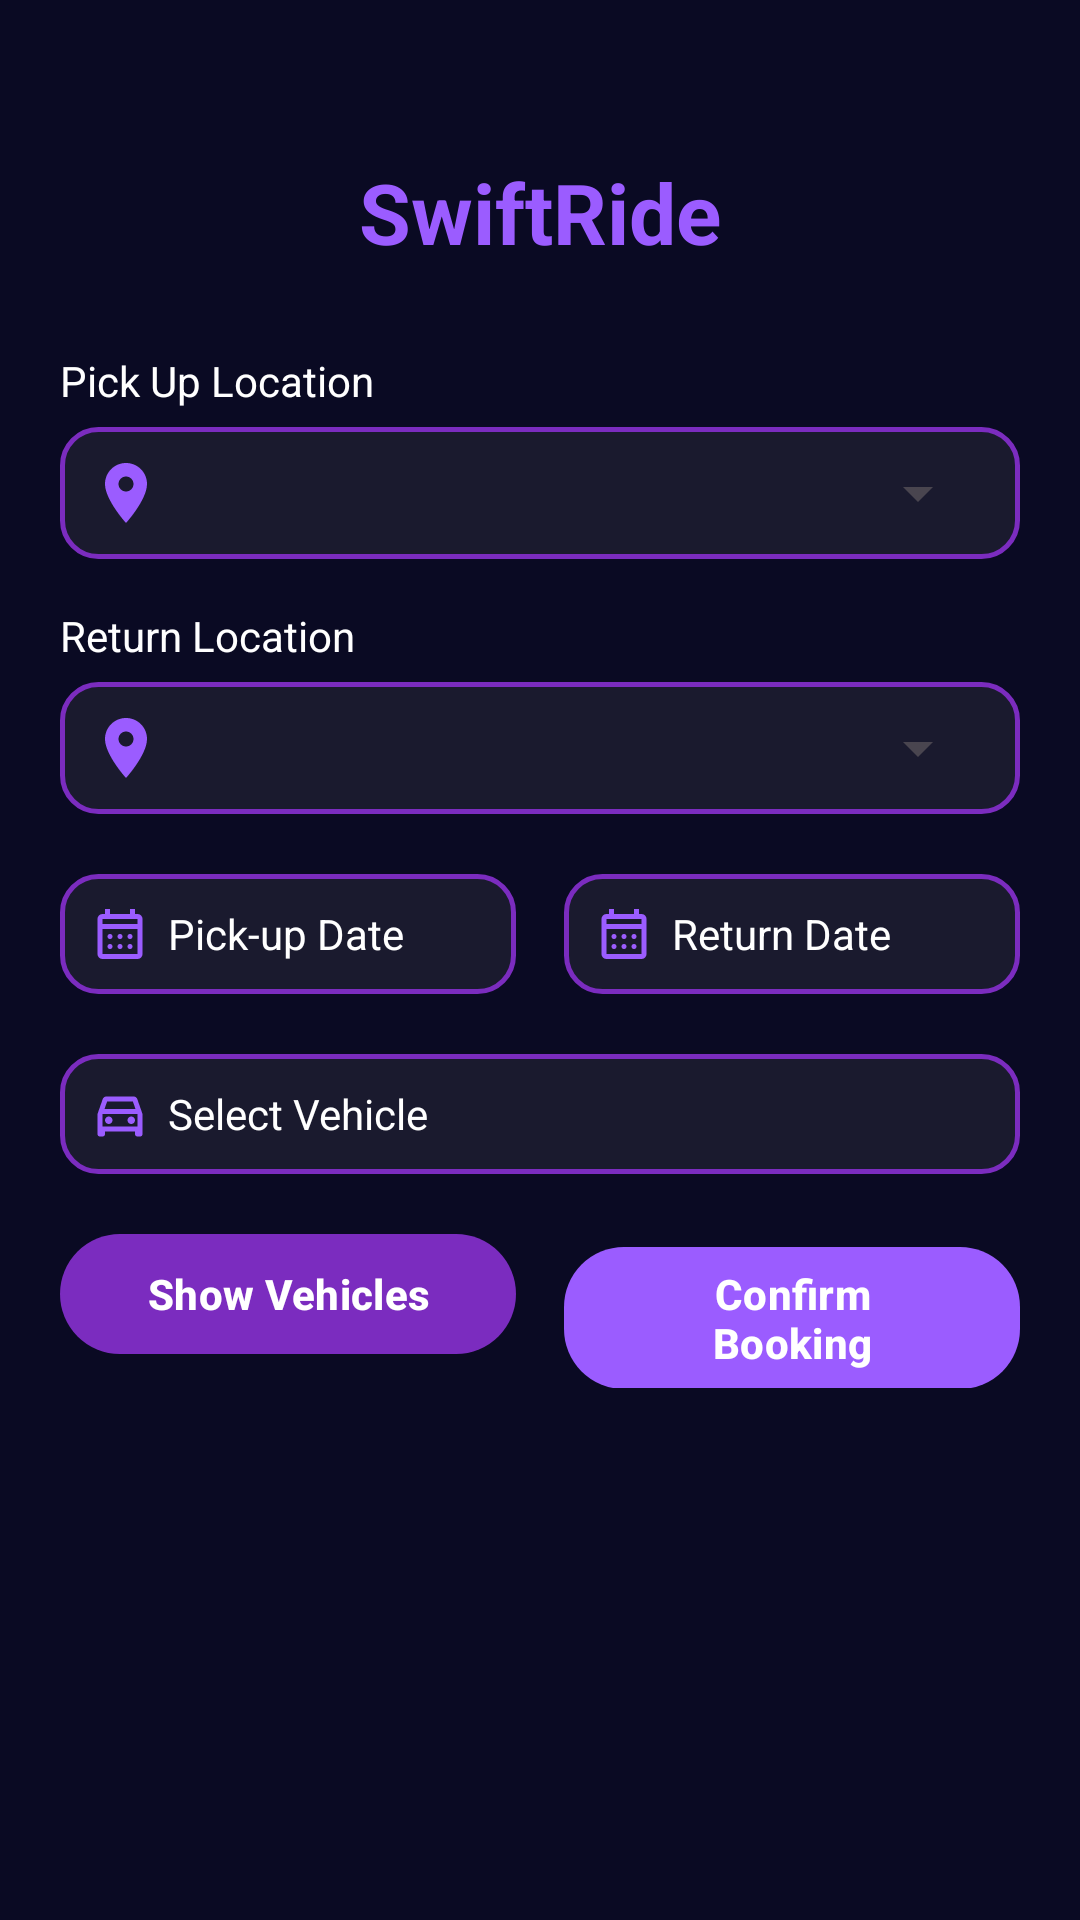

Named icons in this screenshot (1080 × 1920) and their centers, point (x, y):
calendar: point (120, 934), point (624, 934)
car: point (120, 1116)
